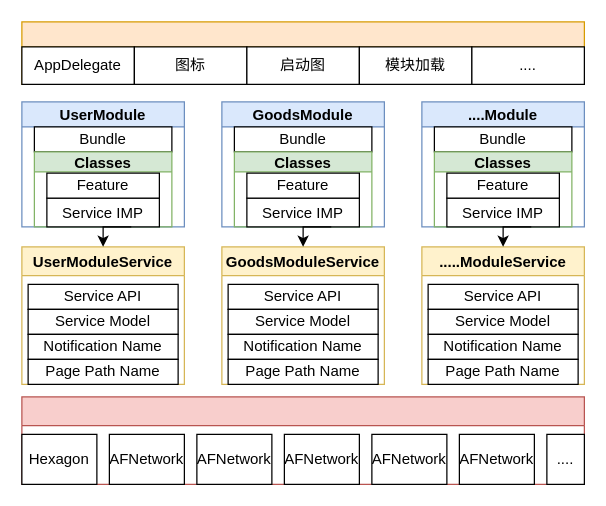
Image size: 606x506. Some labels were removed from this diagram. The shapes that lost their labels are listed below. From the top down, each one's box as (x1, y1, x2, y2) in pixels, then its label:
(21, 21, 584, 84): App壳
(21, 396, 584, 484): Pod(二三方库)
